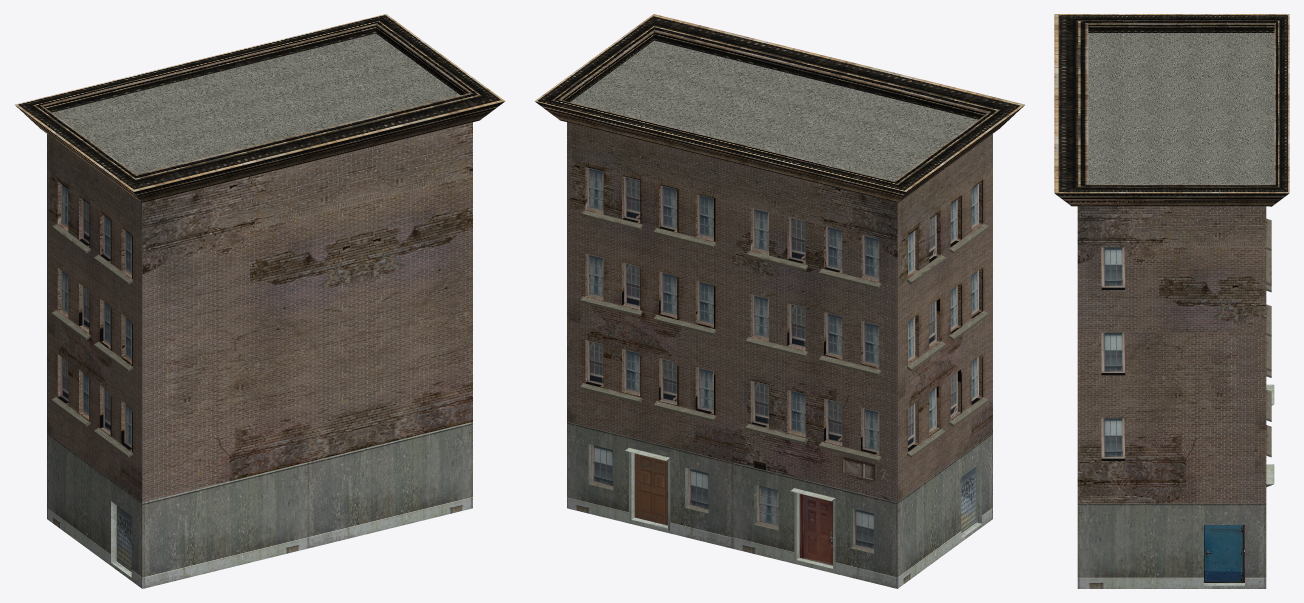
The model's file is Building_14.fbx.
3 renders of one model, left to right at view 1: azimuth 30°, elevation 25°; view 2: azimuth 150°, elevation 25°; view 3: azimuth 270°, elevation 25°, orthographic.
Parts seen in each view (by area): view 1: Building_14; view 2: Building_14; view 3: Building_14.
Boxes of the visible parts, left/top/right/bottom form: Building_14: left=15, top=14, right=505, bottom=588; Building_14: left=534, top=14, right=1024, bottom=588; Building_14: left=1054, top=14, right=1289, bottom=588.
Size of the model in its own units: 1067 by 1127 by 593.
